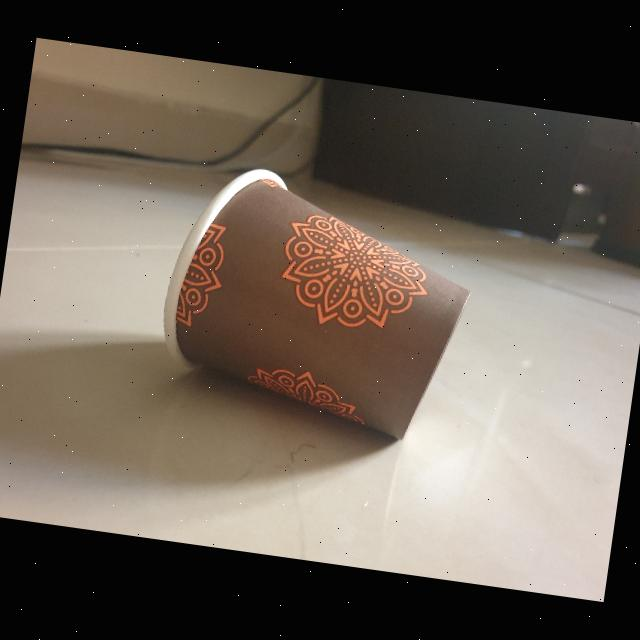trash: (148, 156, 492, 454)
